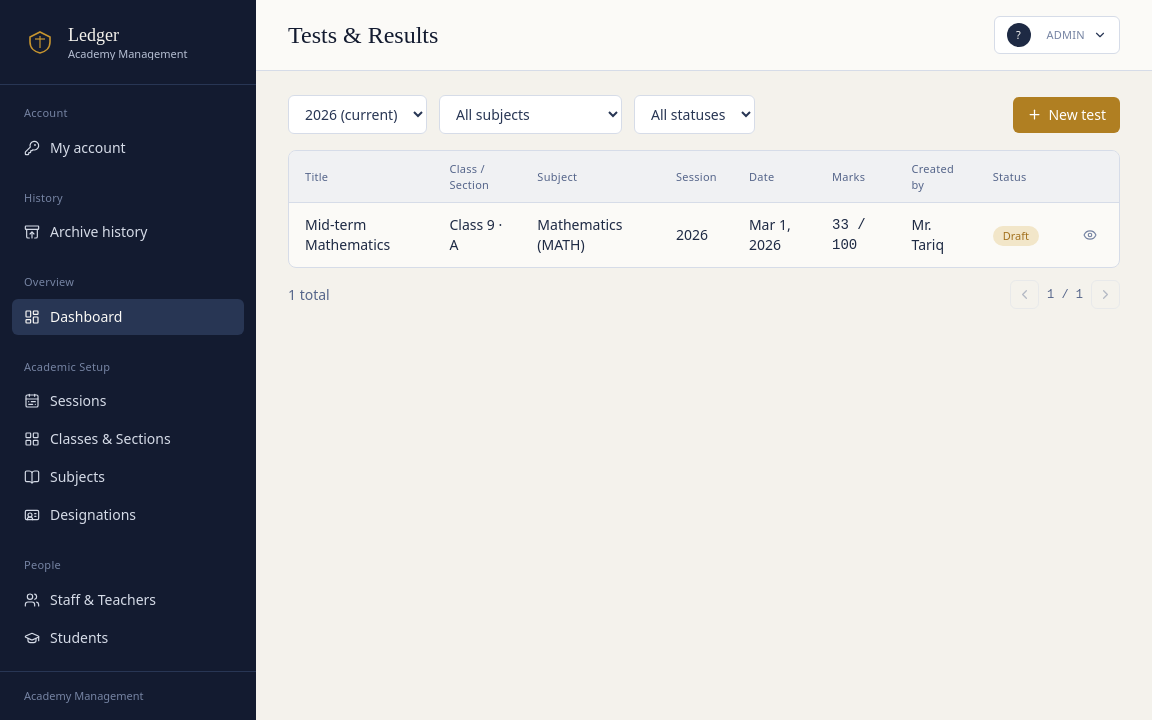
Test detail — draft workflow › disables Finalize until at least one mark has been entered
The width and height of the screenshot is (1152, 720).
Click the button named "View test" at (1090, 235), box [1077,222,1103,248]
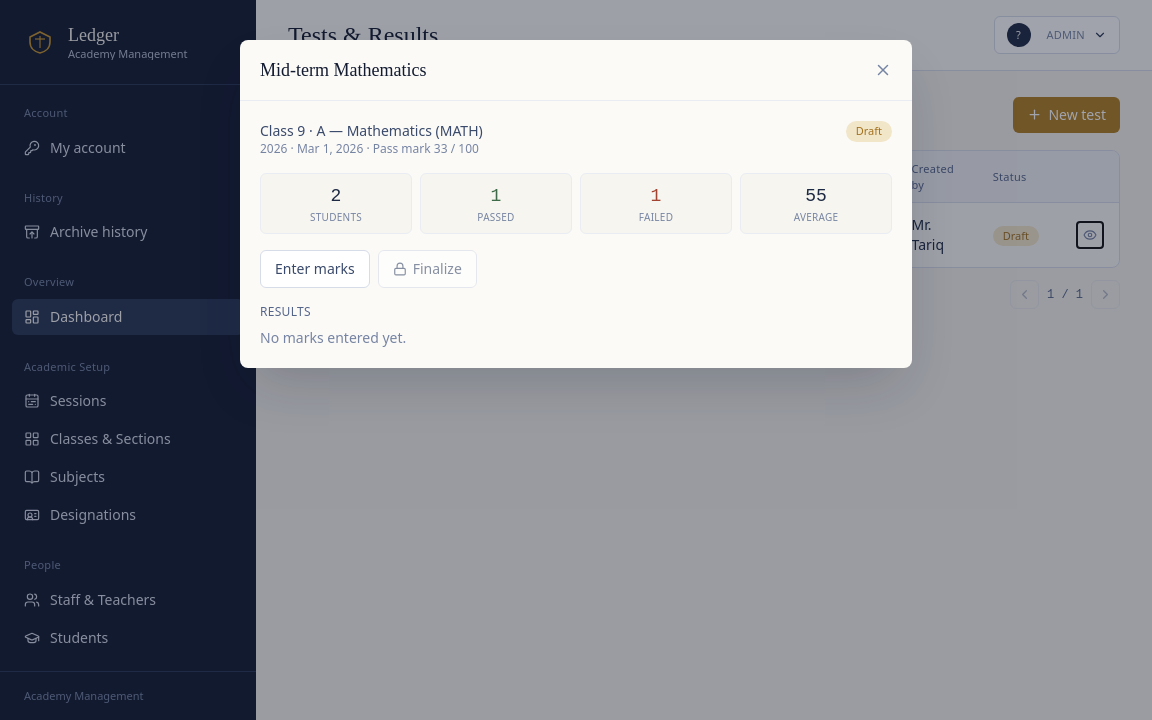
Result: the heading "Mid-term Mathematics" is shown at [260,56,426,84]
Result: the button "Finalize" is disabled at [378,250,477,288]
